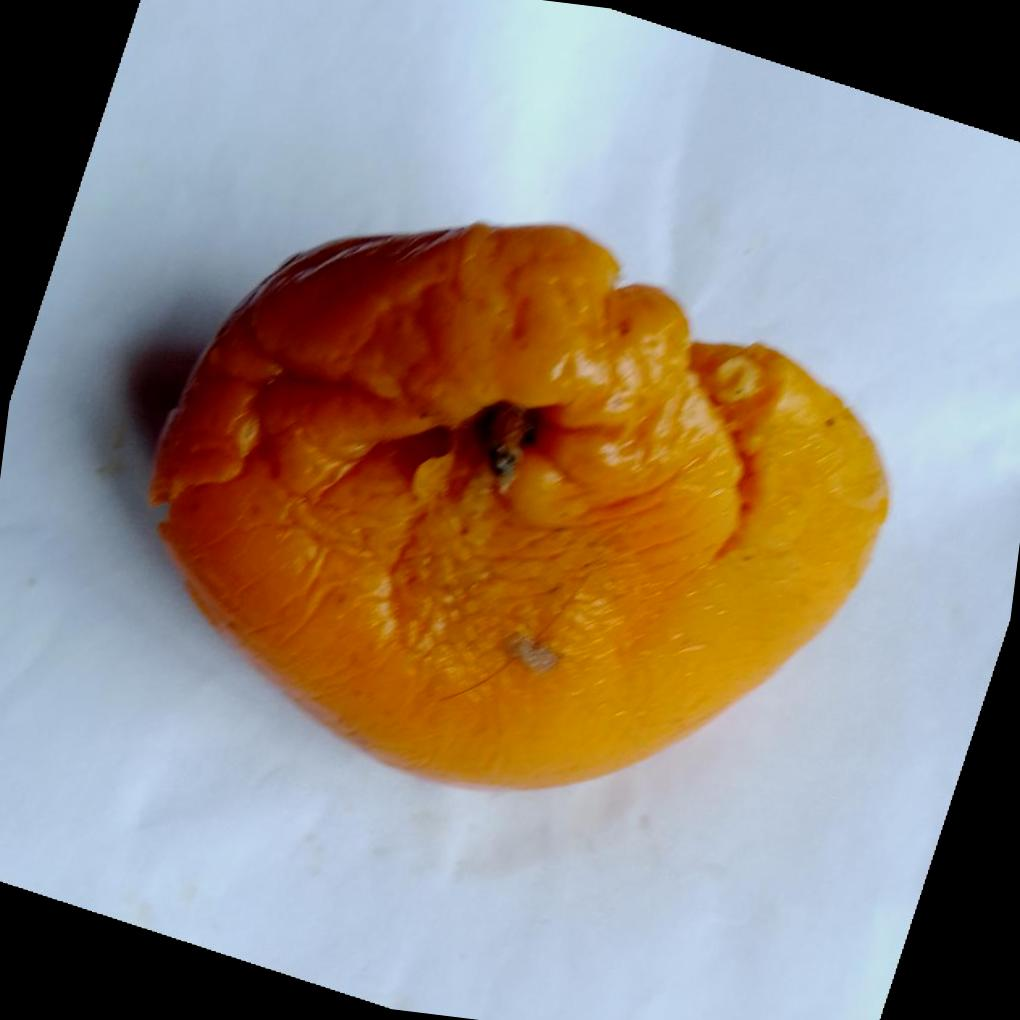FreshOrange: (145, 222, 891, 796)
